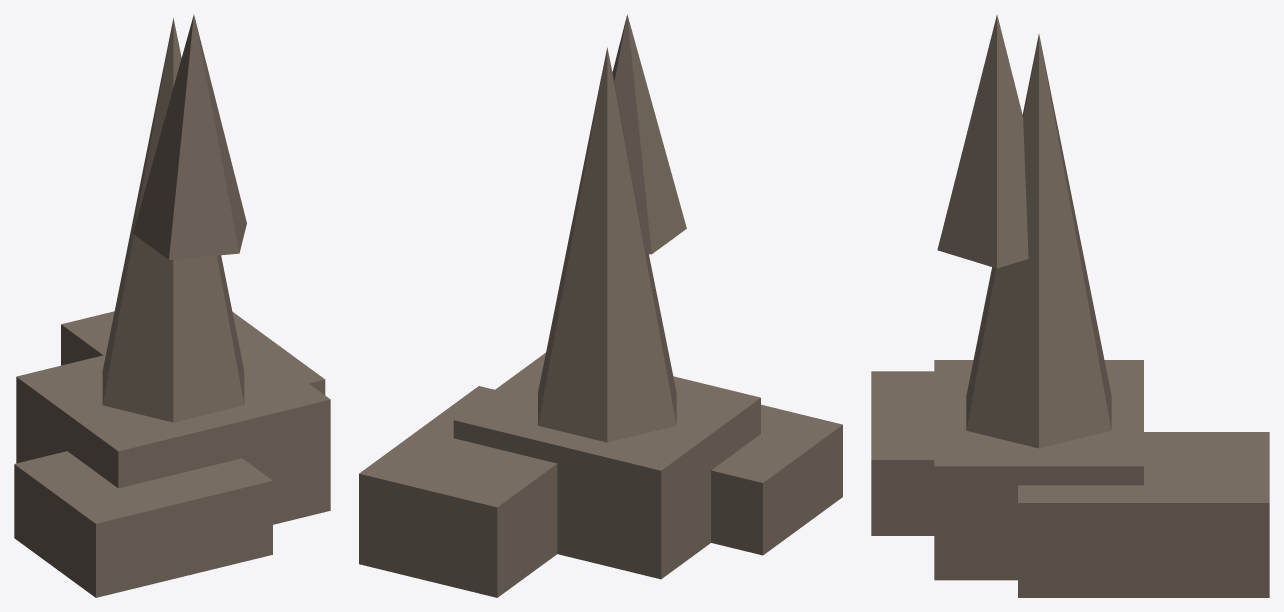
Rendered from geyser.obj.
3 renders of one model, left to right at view 1: azimuth 30°, elevation 25°; view 2: azimuth 150°, elevation 25°; view 3: azimuth 270°, elevation 25°, orthographic. The views are drawn at different scales.
Size of the model in its own units: 0.17 by 0.27 by 0.19.
